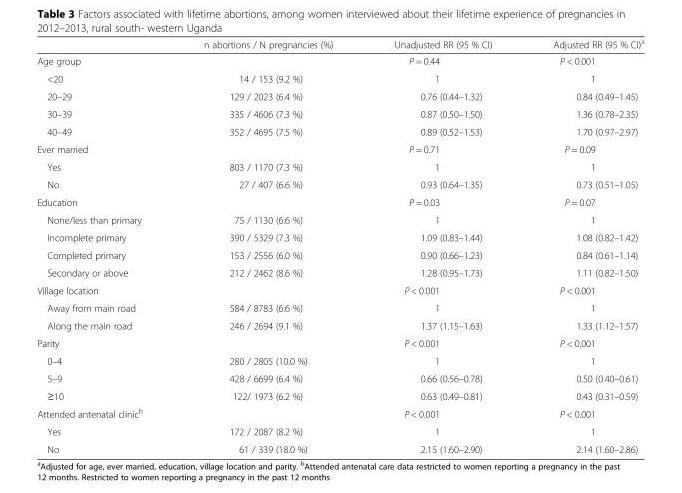table: (36, 37, 643, 454)
table column: (172, 37, 362, 454), (362, 37, 521, 454), (36, 37, 172, 454), (521, 37, 643, 454)
table column header: (36, 37, 643, 52)
table row: (36, 403, 643, 422), (36, 69, 643, 87), (36, 104, 643, 122), (36, 122, 643, 140), (36, 157, 643, 175), (36, 175, 643, 193), (36, 210, 643, 228), (36, 228, 643, 246), (36, 263, 643, 281), (36, 298, 643, 316), (36, 316, 643, 334), (36, 351, 643, 369), (36, 422, 643, 440), (36, 52, 643, 69), (36, 87, 643, 104), (36, 140, 643, 157), (36, 193, 643, 210), (36, 246, 643, 263), (36, 281, 643, 298), (36, 334, 643, 351), (36, 369, 643, 386), (36, 386, 643, 403), (36, 37, 643, 52), (36, 440, 643, 454)
